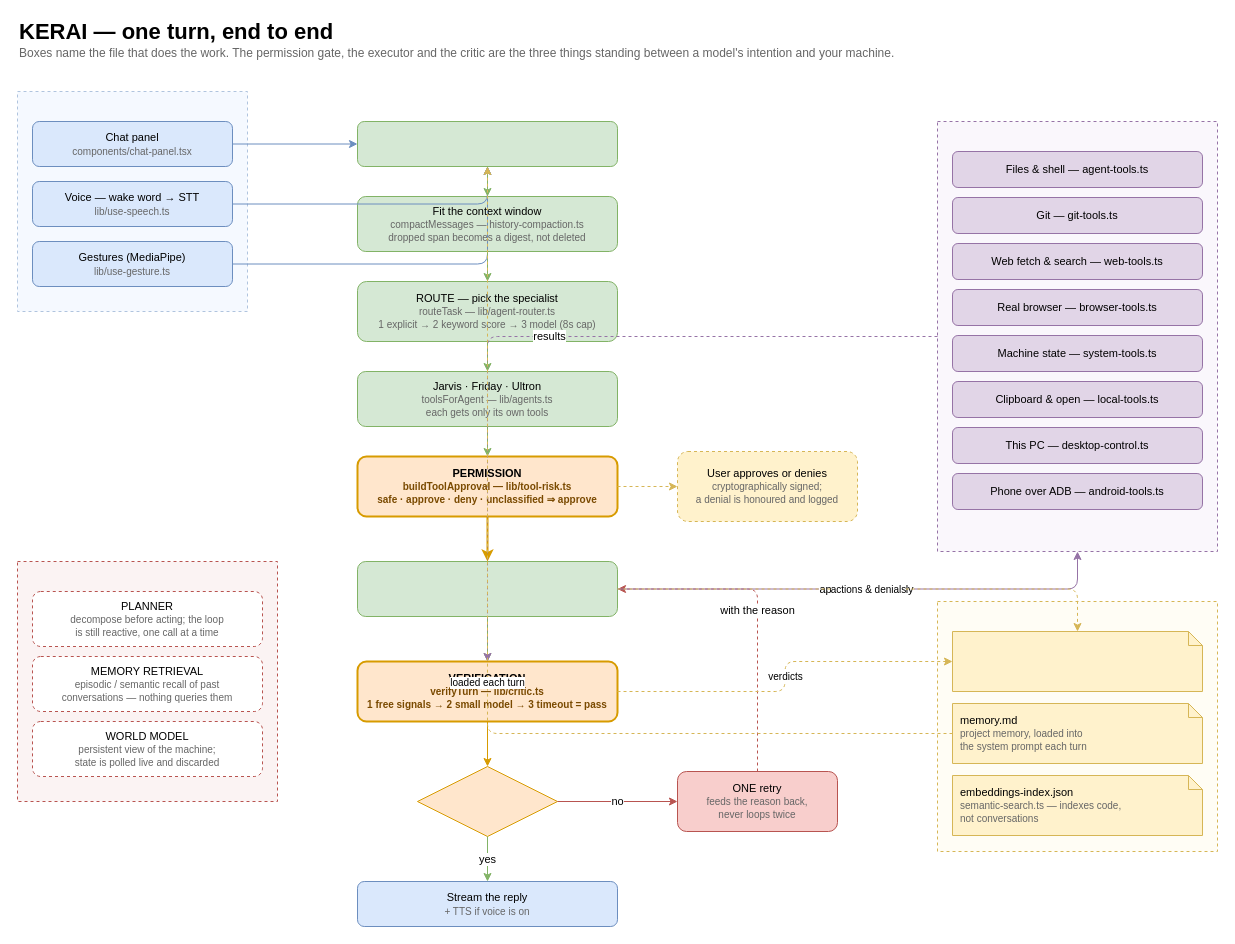
Image size: 1235x944. Some labels were removed from this diagram. The box of each missing label's shape, as (x1, y1, x2, y2) in pixels:
audit.jsonl lib/audit.ts — every action, denial and verdict. Payloads withheld.: (952, 630, 1202, 692)
EXECUTOR streamText tool loop, ≤ 20 steps: (356, 560, 618, 616)
INPUT: (16, 90, 248, 312)
NOT BUILT YET: (16, 560, 278, 802)
POST /api/chat app/api/chat/route.ts: (356, 120, 618, 166)
STATE ON DISK — .omniai/: (936, 600, 1218, 852)
TOOL SURFACE — only approved calls reach here: (936, 120, 1218, 552)
worked?: (416, 766, 558, 836)
